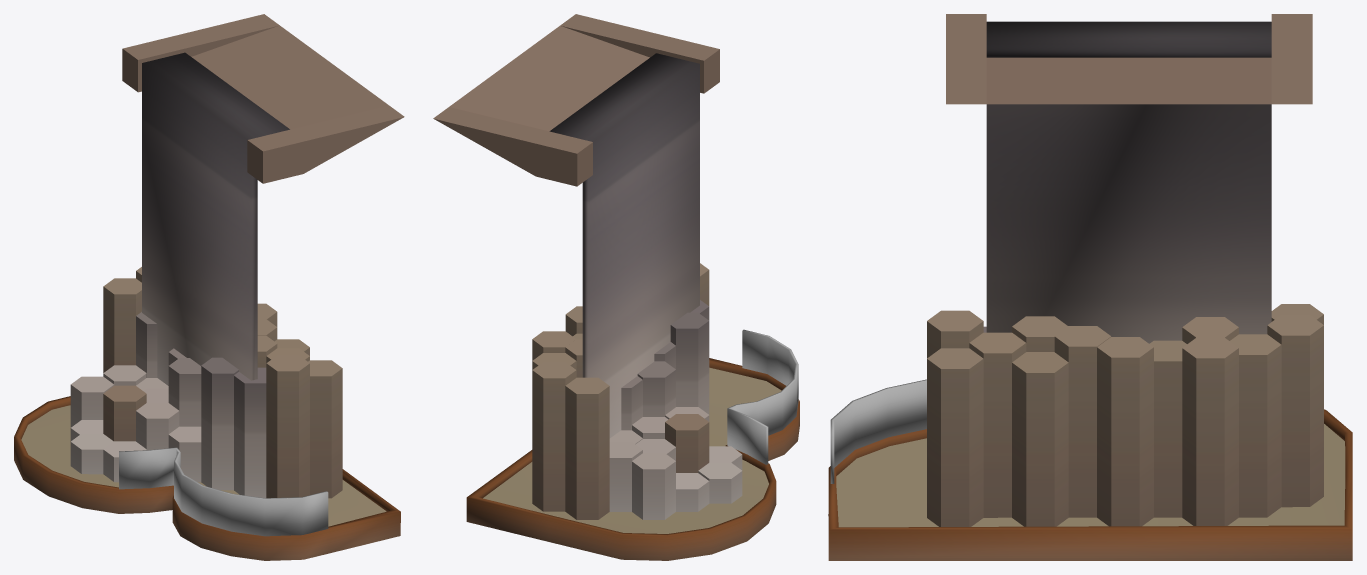
Rendered from Waterfall.fbx.
The picture shows the model from 3 angles, left to right: view 1: azimuth 30°, elevation 25°; view 2: azimuth 150°, elevation 25°; view 3: azimuth 270°, elevation 25°; orthographic projection. The views are drawn at different scales.
Visible parts, largest first — view 1: Base, RoofPart, Glass; view 2: RoofPart, Base, Glass; view 3: Base, RoofPart, Glass.
Part boxes in pixels (bbox=[...]): Base: bbox=[14, 267, 400, 560]; RoofPart: bbox=[122, 14, 404, 385]; Glass: bbox=[119, 447, 328, 536]; RoofPart: bbox=[433, 14, 719, 438]; Base: bbox=[466, 263, 799, 560]; Glass: bbox=[727, 329, 798, 464]; Base: bbox=[828, 304, 1352, 560]; RoofPart: bbox=[946, 14, 1312, 343]; Glass: bbox=[830, 379, 926, 483].
Size of what is drawn, in the model's own units: 3395 by 4485 by 4293.
